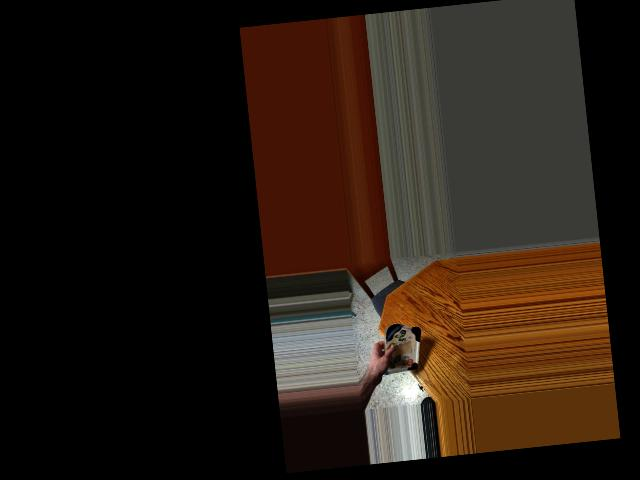cheese: (375, 320, 425, 376)
